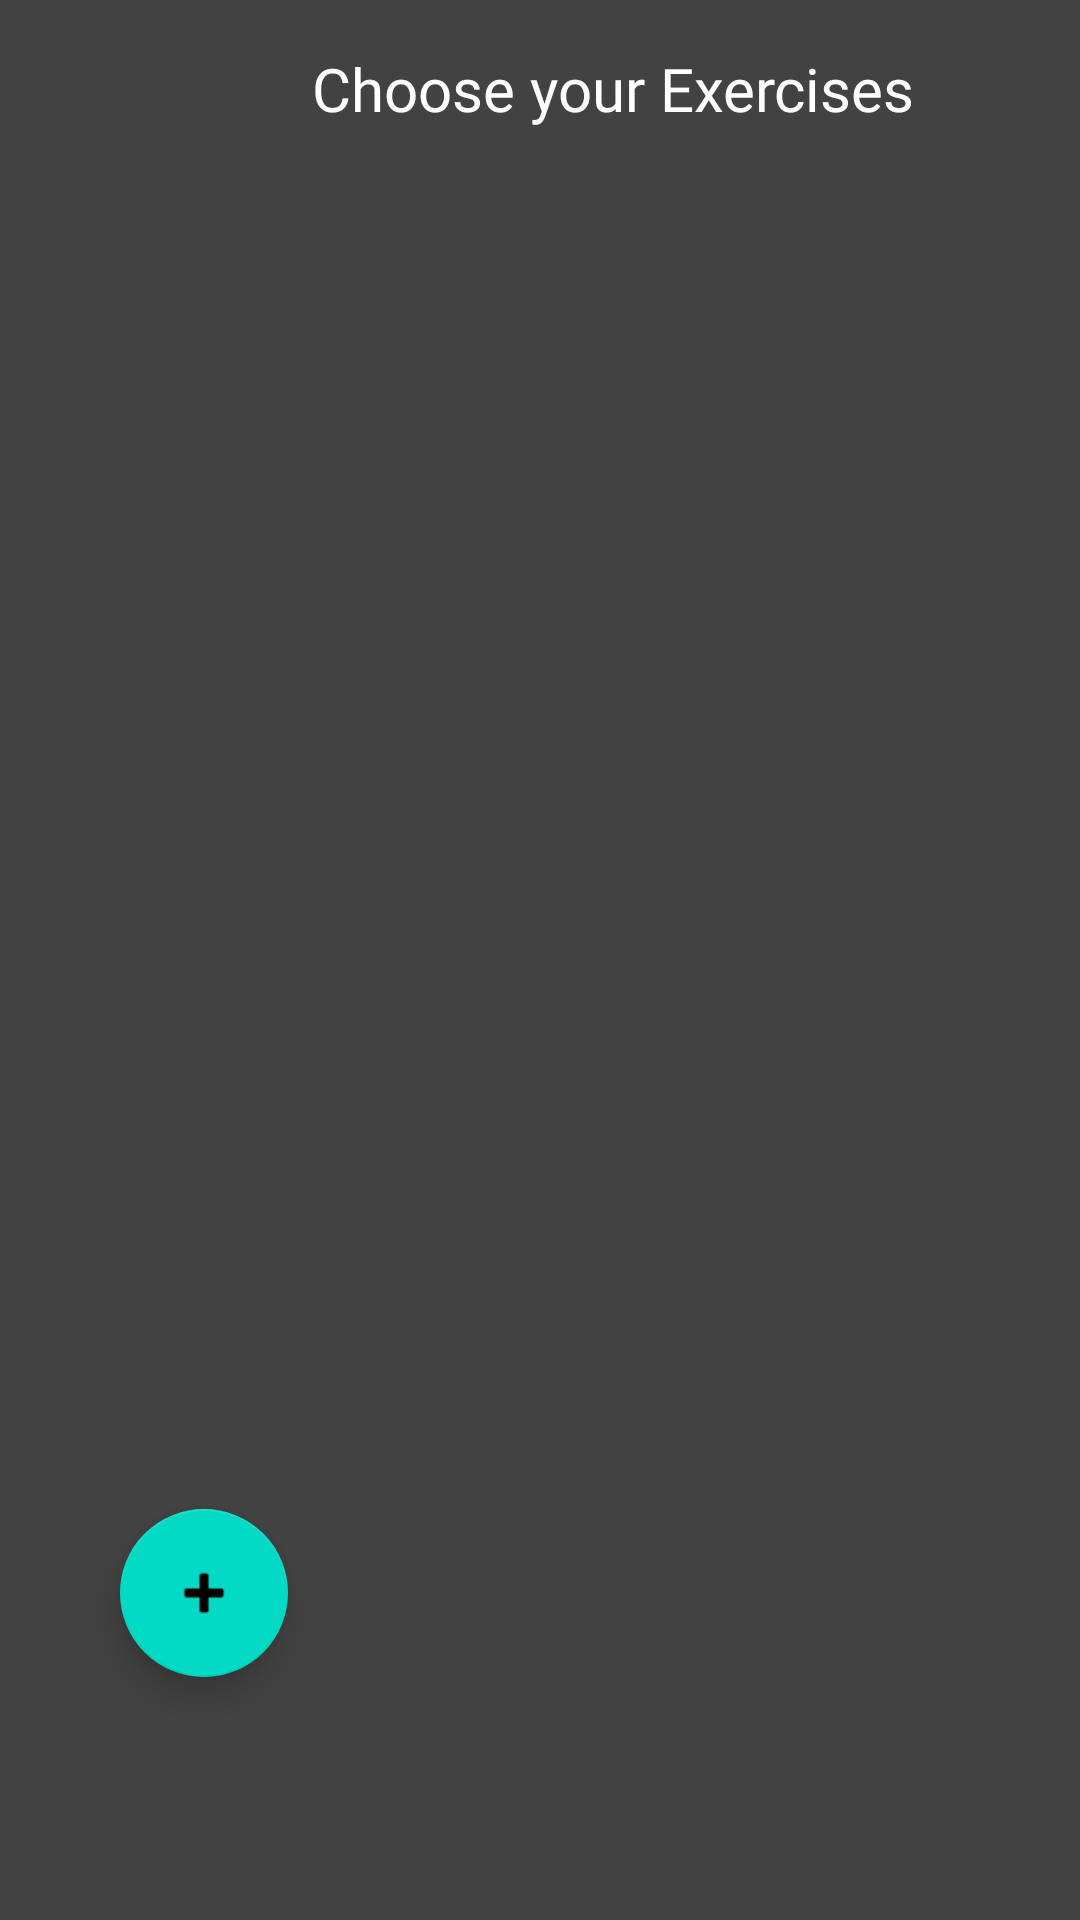

Named icons in this screenshot (1080px x 1920px) and their centers, [x,y]:
add: [204,1593]
